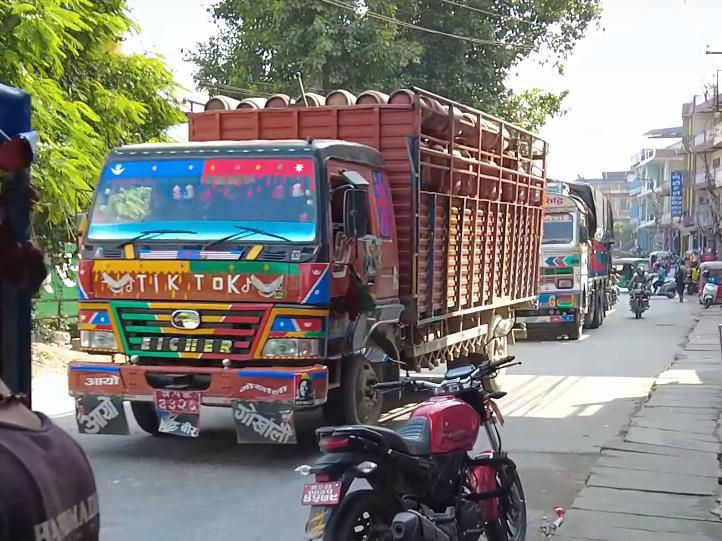bike: (289, 338, 535, 541), (626, 278, 655, 320)
scooter: (695, 268, 721, 311), (647, 270, 679, 300)
truck: (66, 84, 548, 445), (511, 178, 616, 340)
